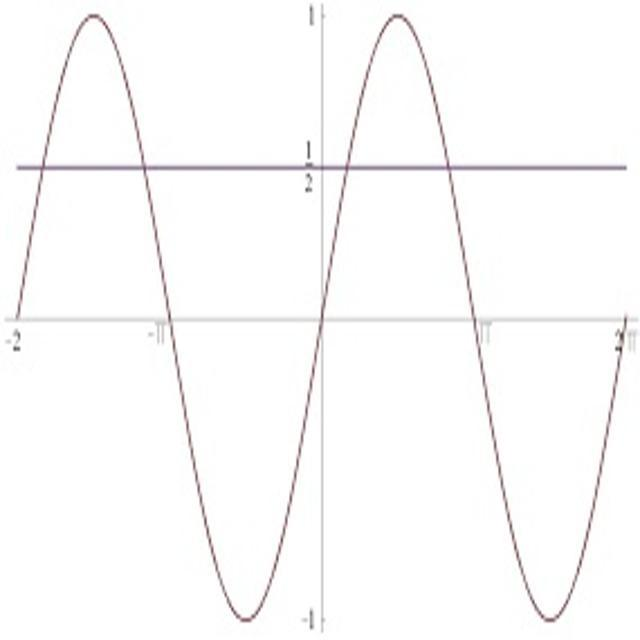axis: (0, 314, 640, 325), (318, 4, 327, 636)
line: (11, 6, 630, 627)
